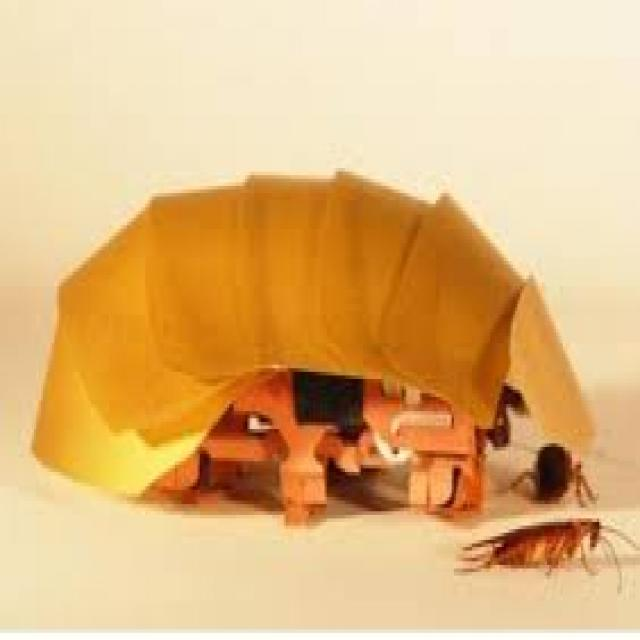Cockroach: (459, 447, 640, 640)
